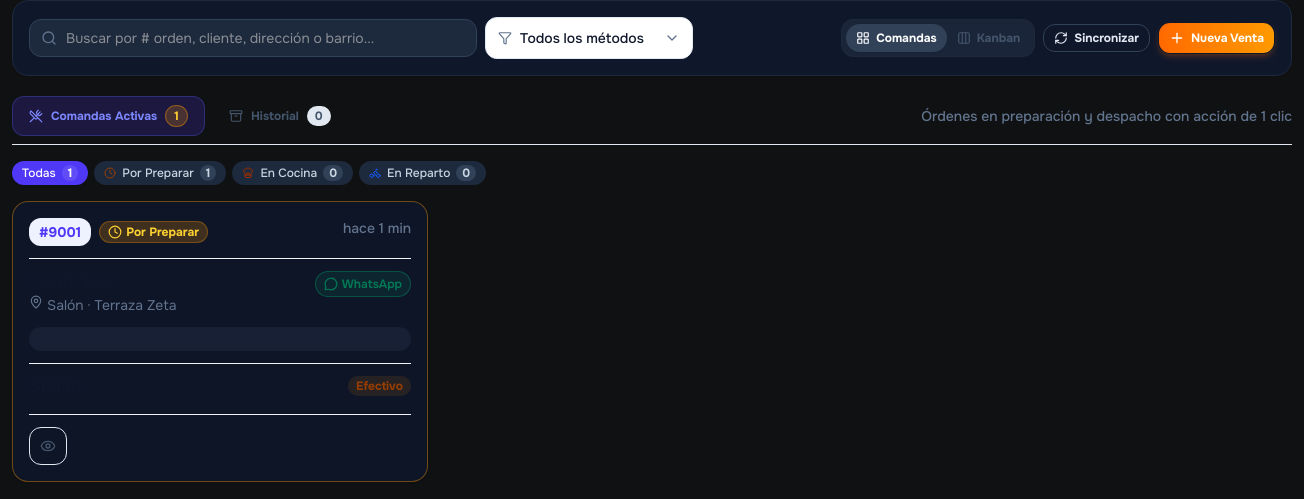
Test: OrdersKanban Component (TDD Tests) › finds an order by the name of its table
The image size is (1304, 499).
In the field with placeholder "Buscar por # orden, cliente, dirección o barrio...": (253, 38) [29,19,477,57], type "terraza zeta"
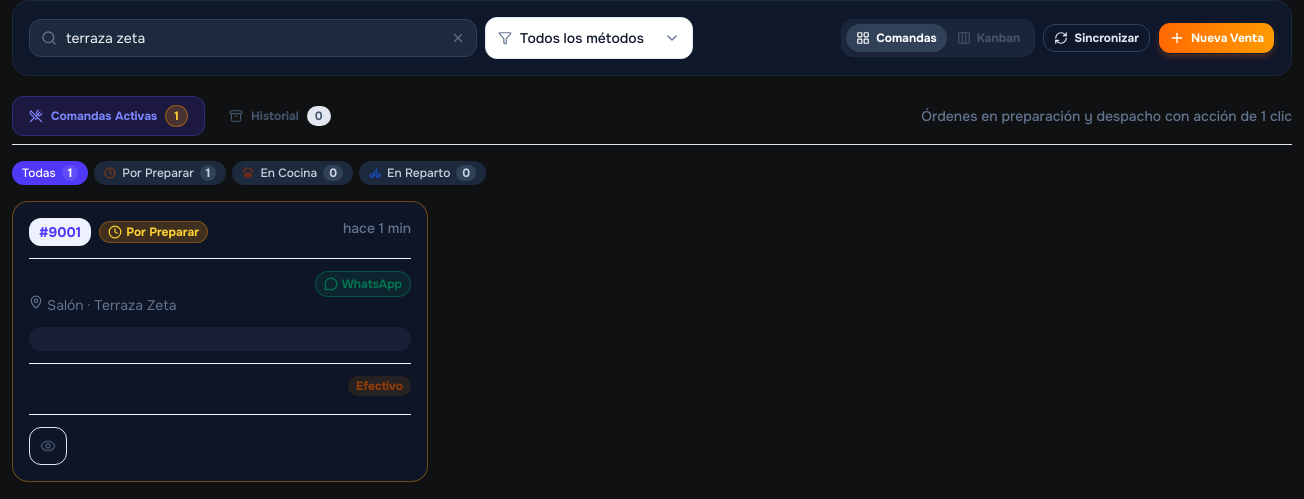
Expected: the text "#9001" is shown, [29,218,91,246]
Replace the text in the field with placeholder "Buscar por # orden, cliente, dirección o barrio..." with "no existe esa mesa": (253, 38) [29,19,477,57]
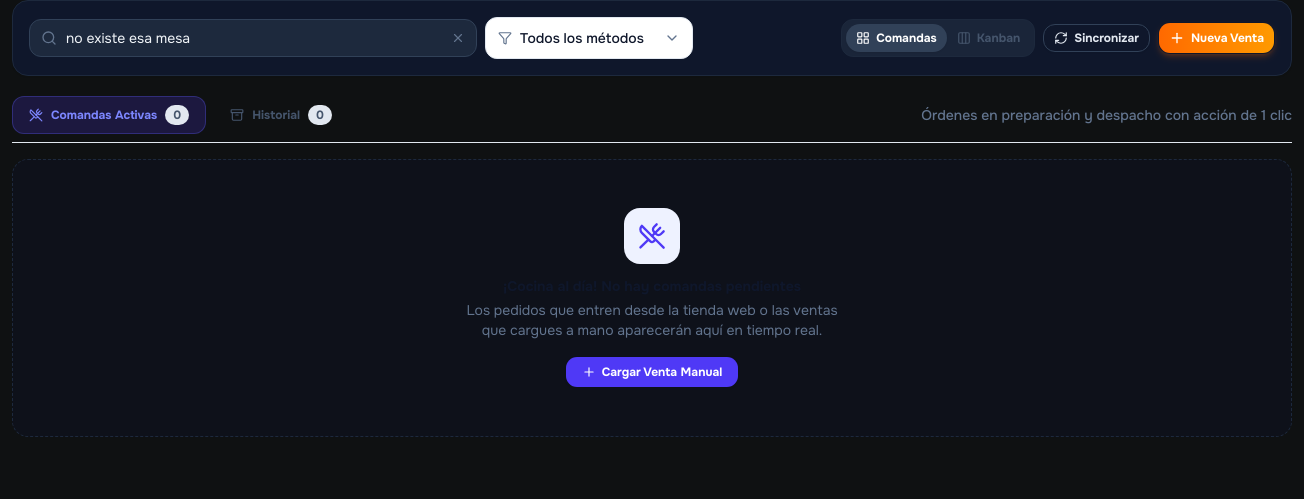
Now the text "#9001" is gone
